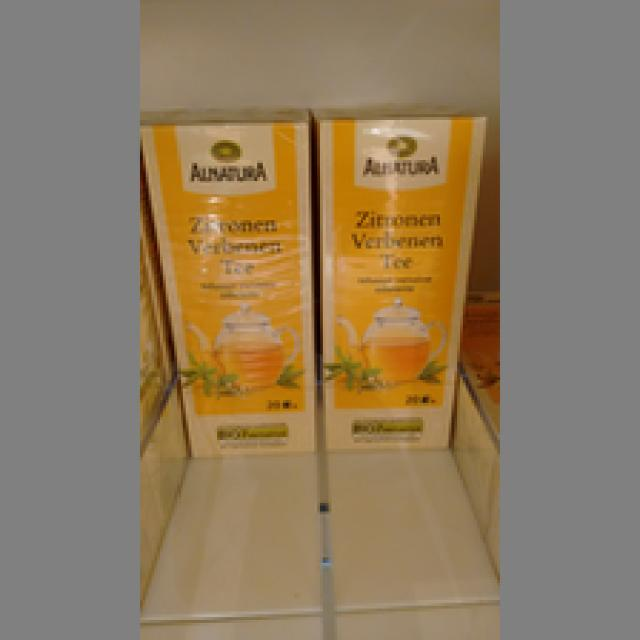groceries: (308, 100, 483, 451), (140, 103, 311, 454)
